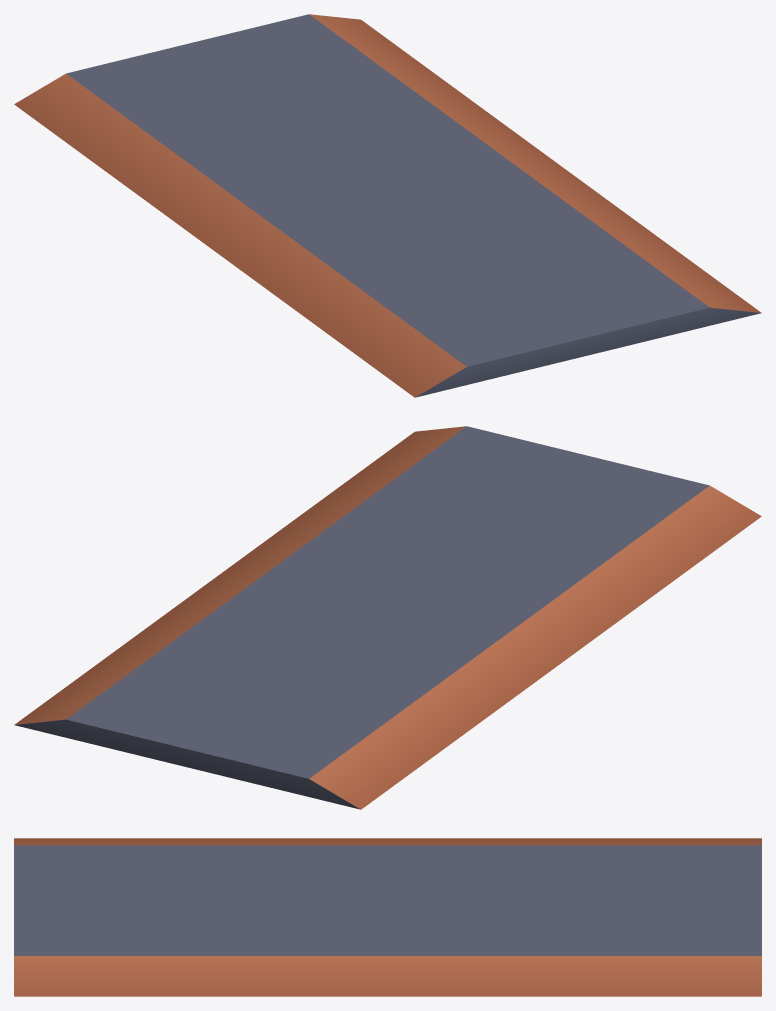
The model's file is path-long.glb.
3 renders of one model, top to bottom at view 1: azimuth 30°, elevation 25°; view 2: azimuth 150°, elevation 25°; view 3: azimuth 270°, elevation 25°, orthographic. The views are drawn at different scales.
Parts seen in each view (by area): view 1: path-long; view 2: path-long; view 3: path-long.
Part boxes in pixels (<box>): path-long: <box>14,14,761,397</box>; path-long: <box>14,426,761,809</box>; path-long: <box>14,838,761,996</box>.
Size of the model in its own units: 0.2 by 0.01 by 0.4.
